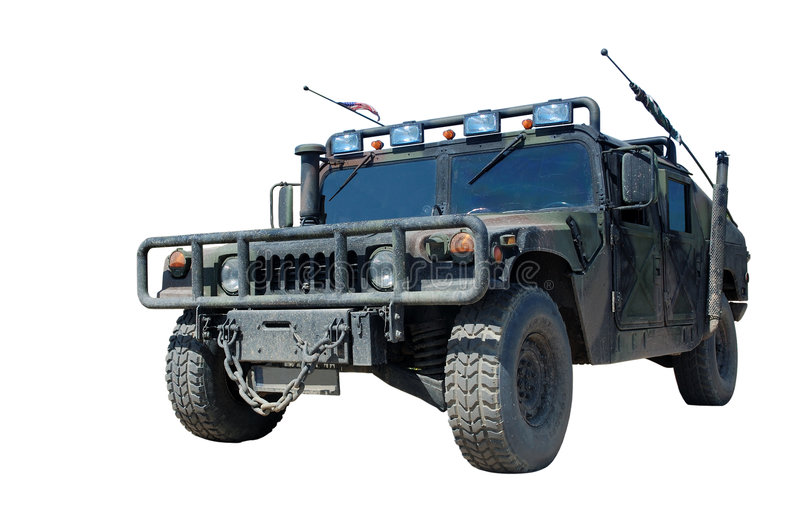hummer: (141, 101, 754, 459)
